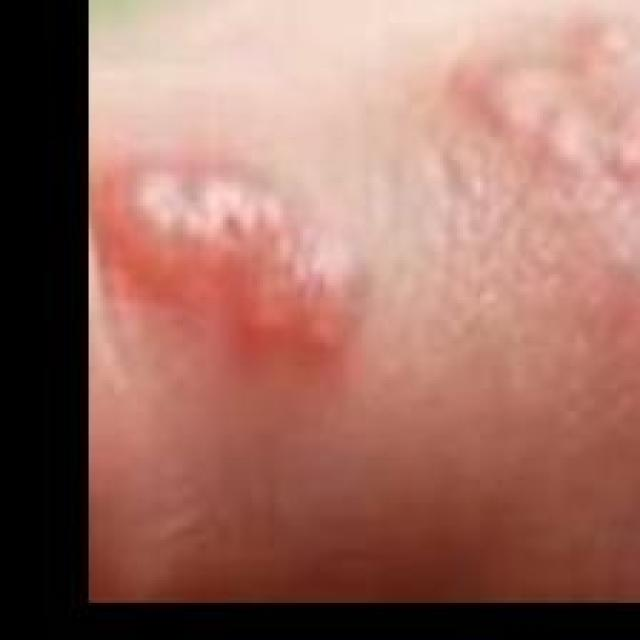monkeypox: (77, 34, 640, 574)
